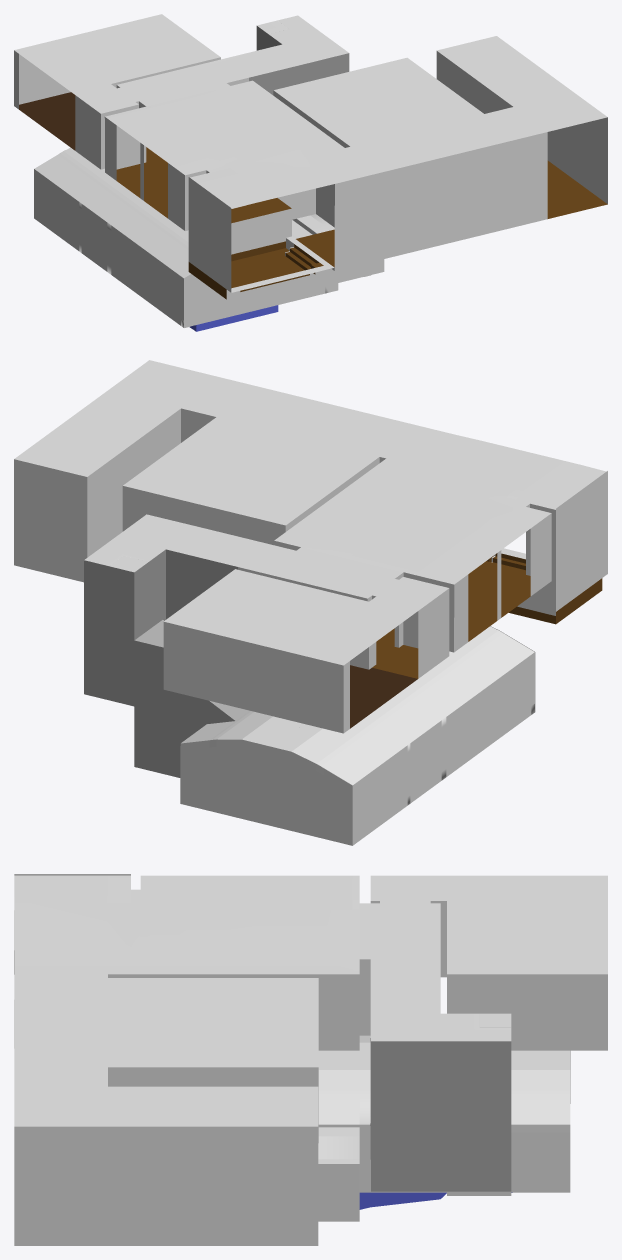
Rendered from new_journey_home-cleanedupfbx - bad uv.fbx.
3 renders of one model, top to bottom at view 1: azimuth 30°, elevation 25°; view 2: azimuth 150°, elevation 25°; view 3: azimuth 270°, elevation 25°, orthographic. The views are drawn at different scales.
Parts seen in each view (by area): view 1: Roof, pool, main wallway, Entry hall.008, main wallway.001, entry hall, sleep room, stairs to pool, hallway, movie room; view 2: Roof, pool, stairs to pool, sleep room, entry hall, Entry hall.008, main wallway.001, movie room, hallway, beam.005; view 3: Roof, entry hall, stairs to pool, pool, sleep room, movie room, Entry hall.008, hallway.
Part boxes in pixels (x1,y1,x2,y2): Roof: [14, 14, 607, 208]; pool: [34, 148, 384, 331]; main wallway: [296, 132, 547, 270]; Entry hall.008: [104, 117, 334, 254]; main wallway.001: [188, 177, 334, 299]; entry hall: [436, 51, 607, 218]; sleep room: [14, 50, 220, 150]; stairs to pool: [249, 26, 349, 94]; hallway: [75, 77, 248, 169]; movie room: [273, 90, 349, 147]; Roof: [14, 360, 606, 665]; pool: [180, 626, 534, 845]; stairs to pool: [84, 549, 237, 777]; sleep room: [163, 622, 417, 733]; entry hall: [14, 409, 180, 582]; Entry hall.008: [274, 503, 555, 652]; main wallway.001: [487, 471, 607, 624]; movie room: [122, 408, 385, 545]; hallway: [238, 567, 449, 678]; beam.005: [180, 739, 352, 845]; Roof: [14, 875, 607, 1126]; entry hall: [14, 1126, 318, 1245]; stairs to pool: [370, 1038, 511, 1191]; pool: [318, 1035, 570, 1221]; sleep room: [440, 901, 607, 1050]; movie room: [108, 1067, 318, 1142]; Entry hall.008: [108, 974, 359, 1050]; hallway: [359, 901, 440, 1035].
Size of the model in its own units: 2542 by 1213 by 2540.
